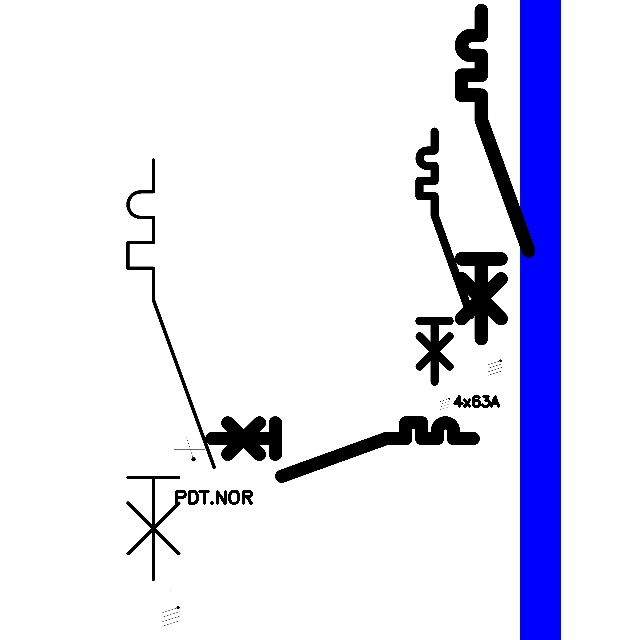interruptor_termomagnetico: (117, 149, 225, 590), (453, 2, 537, 347), (205, 416, 480, 483), (413, 125, 477, 388)
